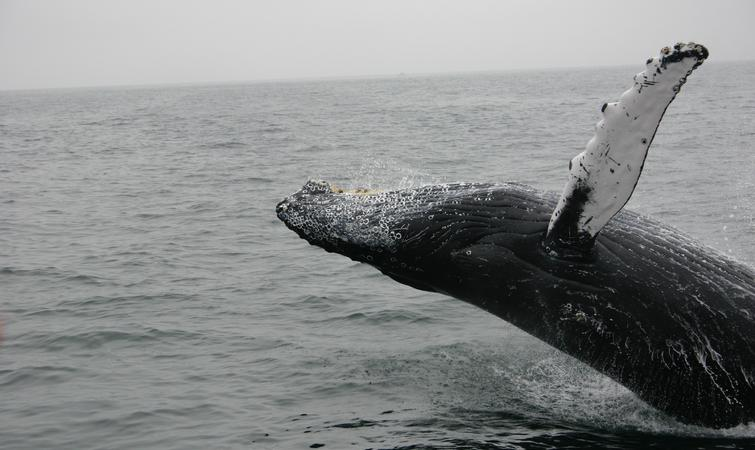fish: (277, 40, 755, 421)
